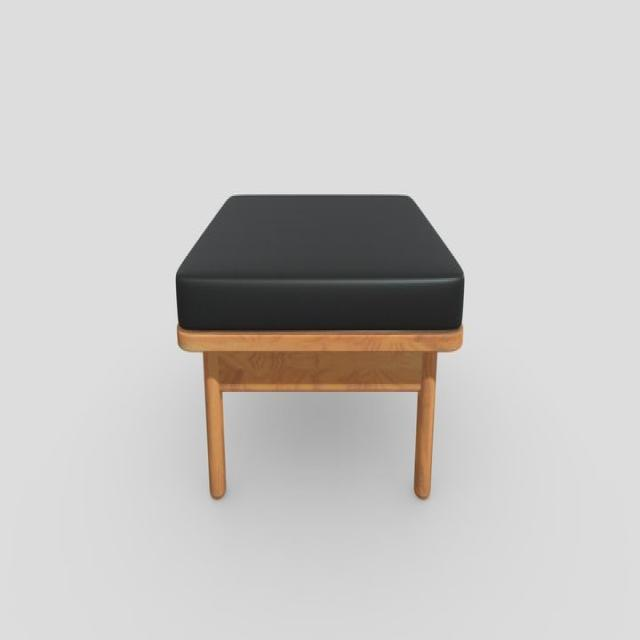table: (176, 194, 468, 500)
